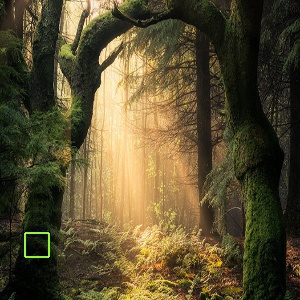square: (22, 230, 53, 260)
